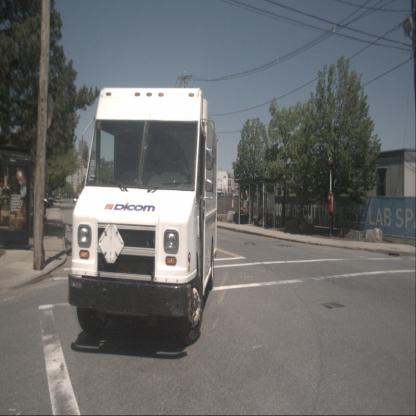human-pedestrian-adult: (252, 204, 264, 226)
vehicle-car: (68, 87, 219, 345), (73, 195, 79, 204)
